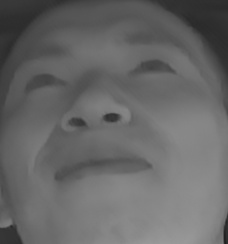eye: (128, 51, 177, 84), (20, 66, 67, 97)
mouth: (46, 139, 155, 192)
